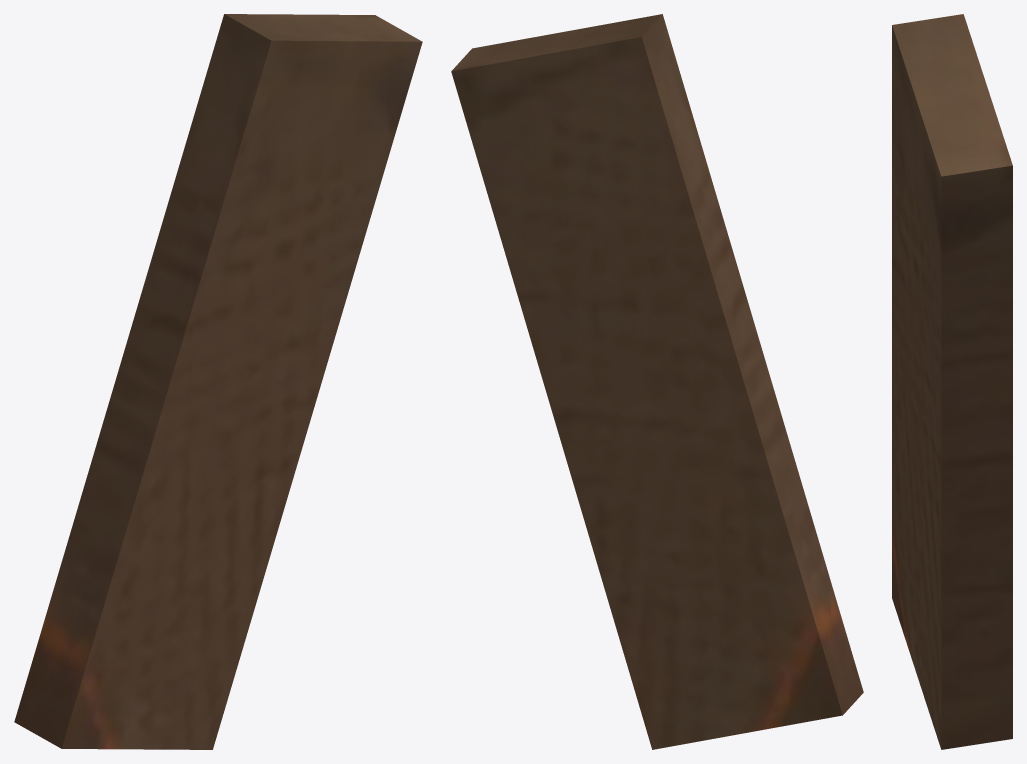
Rendered from fan_right__blade_1.glb.
The picture shows the model from 3 angles, left to right: view 1: azimuth 30°, elevation 25°; view 2: azimuth 150°, elevation 25°; view 3: azimuth 270°, elevation 25°; orthographic projection. The views are drawn at different scales.
Visible parts, largest first — view 1: geometry_0; view 2: geometry_0; view 3: geometry_0.
Boxes of the visible parts, left/top/right/bottom form: geometry_0: left=14, top=14, right=422, bottom=749; geometry_0: left=451, top=14, right=863, bottom=749; geometry_0: left=892, top=14, right=1012, bottom=749.
Size of the model in its own units: 0.0168 by 0.0292 by 0.00428.
1 material, 1 textured.
